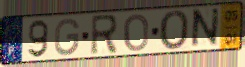9: (26, 19, 50, 59)
G: (53, 17, 81, 57)
N: (189, 6, 221, 52)
O: (158, 9, 191, 52), (122, 12, 150, 53)
R: (89, 12, 119, 57)
